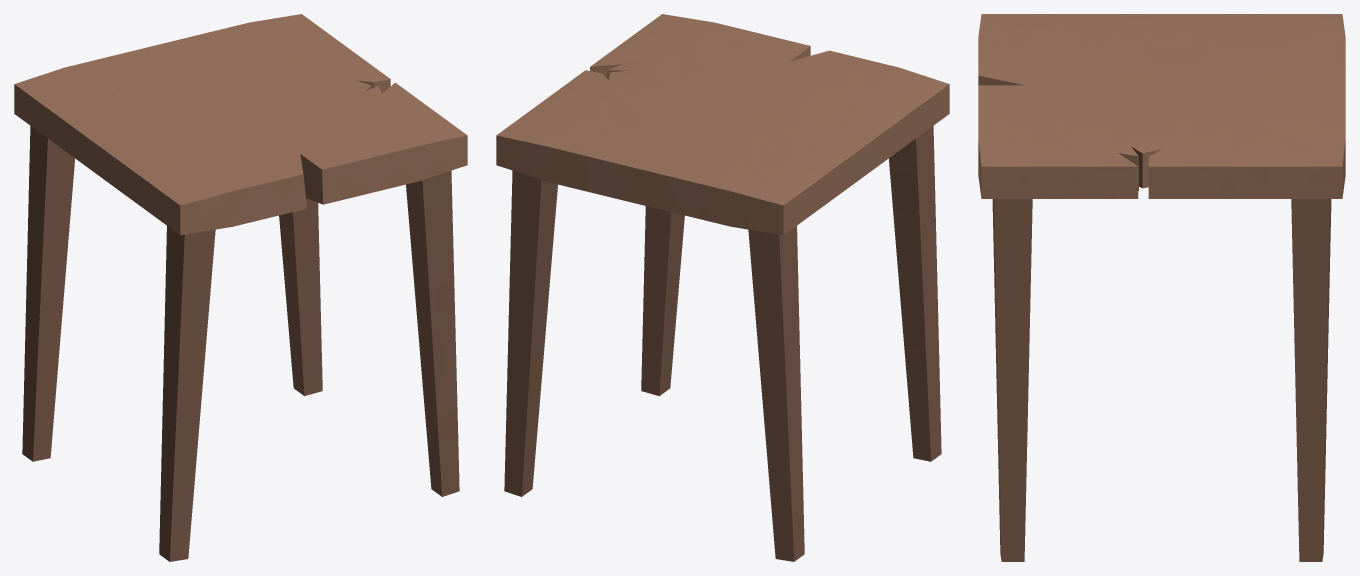
The model's file is Chair_01_02_Damaged.fbx.
3 views of the same model, side by side, from view 1: azimuth 30°, elevation 25°; view 2: azimuth 150°, elevation 25°; view 3: azimuth 270°, elevation 25° (orthographic). The views are drawn at different scales.
Visible parts, largest first — view 1: Chair_01_02_Damaged; view 2: Chair_01_02_Damaged; view 3: Chair_01_02_Damaged.
Boxes of the visible parts, x1,y1,x2,y2 form: Chair_01_02_Damaged: (14,14,467,561); Chair_01_02_Damaged: (496,14,949,561); Chair_01_02_Damaged: (978,14,1345,561).
Size of the model in its own units: 0.4836 by 0.5845 by 0.4882.
